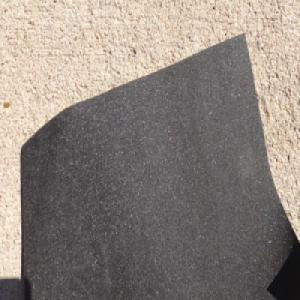PaintChip: (19, 31, 294, 300)
